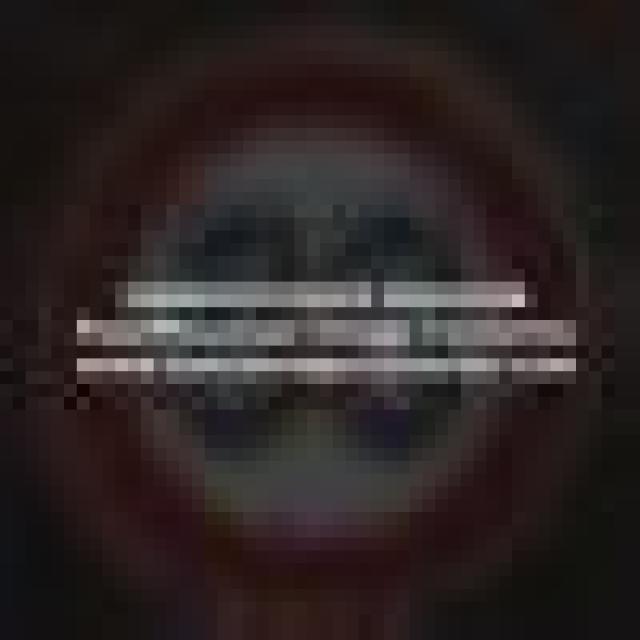speed_limit_50: (38, 51, 589, 614)
